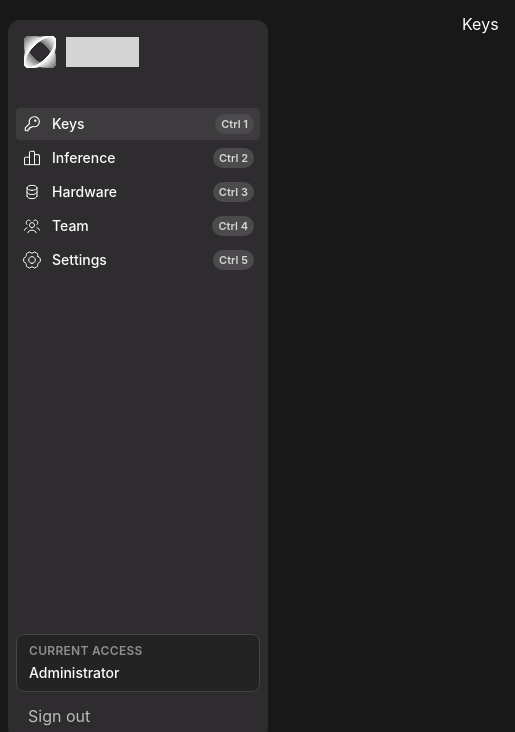
Test: ConsoleV2Shell › keeps a failed coordinated logout recoverable
This screenshot has width=515, height=732.
Click the button "Sign out" at {"x": 138, "y": 716}, box [16,700,260,731]
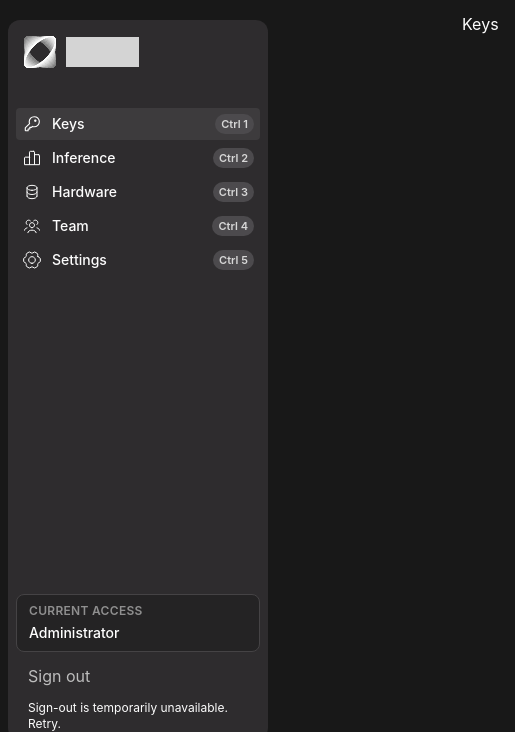
Check: the text "Sign-out is temporarily unavailable. Retry." is shown, box [28,700,228,731]
